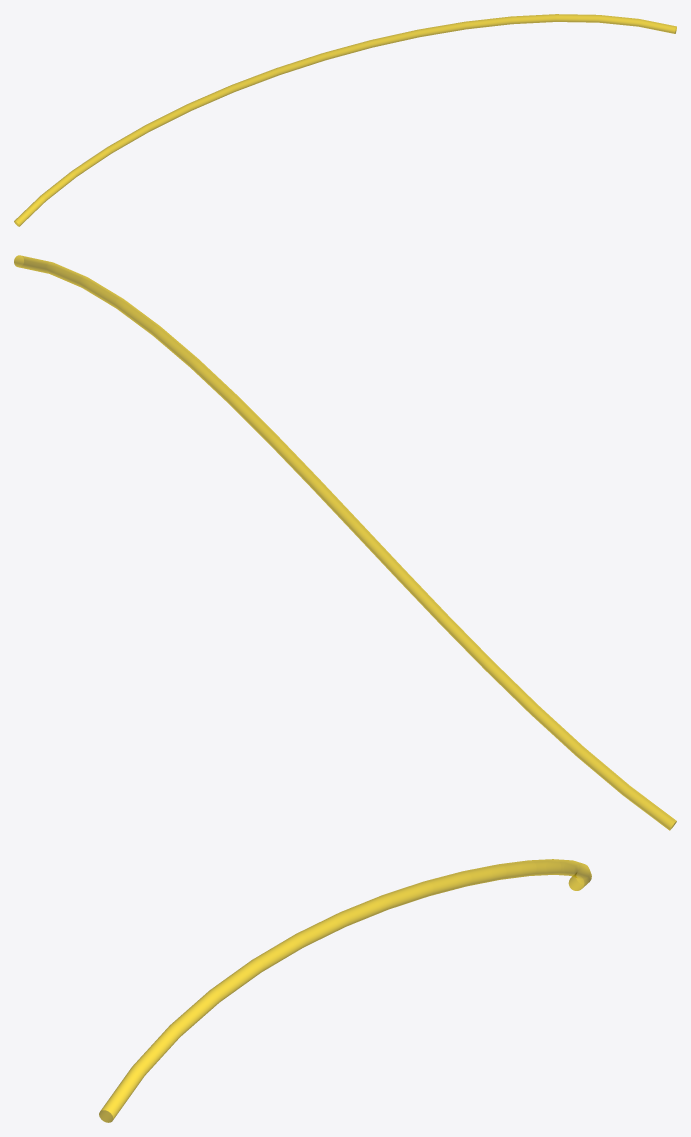
The model's file is Event_27938768_track_86.fbx.
The picture shows the model from 3 angles, top to bottom: view 1: azimuth 30°, elevation 25°; view 2: azimuth 150°, elevation 25°; view 3: azimuth 270°, elevation 25°; orthographic projection. The views are drawn at different scales.
Visible parts, largest first — view 1: Model; view 2: Model; view 3: Model.
Part boxes in pixels (left/top/right/bottom): Model: left=14, top=14, right=676, bottom=226; Model: left=14, top=255, right=676, bottom=830; Model: left=99, top=859, right=591, bottom=1122.
Bounding box in the file's own units: 3.19 × 0.9466 × 1.25.
